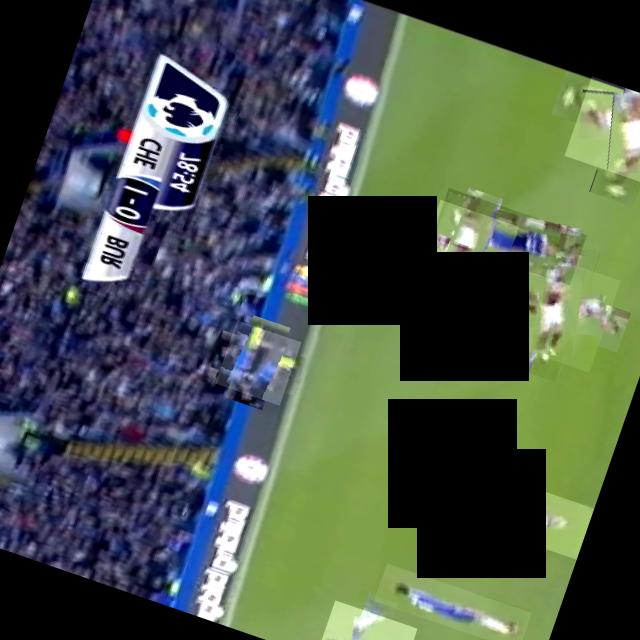referee: (499, 481, 594, 558), (215, 319, 301, 404)
soccer-player: (496, 248, 620, 372), (432, 186, 586, 284), (342, 247, 479, 339), (373, 562, 531, 640), (414, 198, 518, 304), (564, 75, 640, 192), (315, 599, 417, 640)
